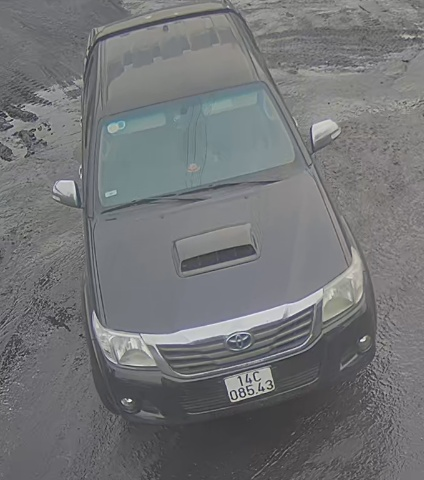vehicle plate: (221, 369, 280, 399)
